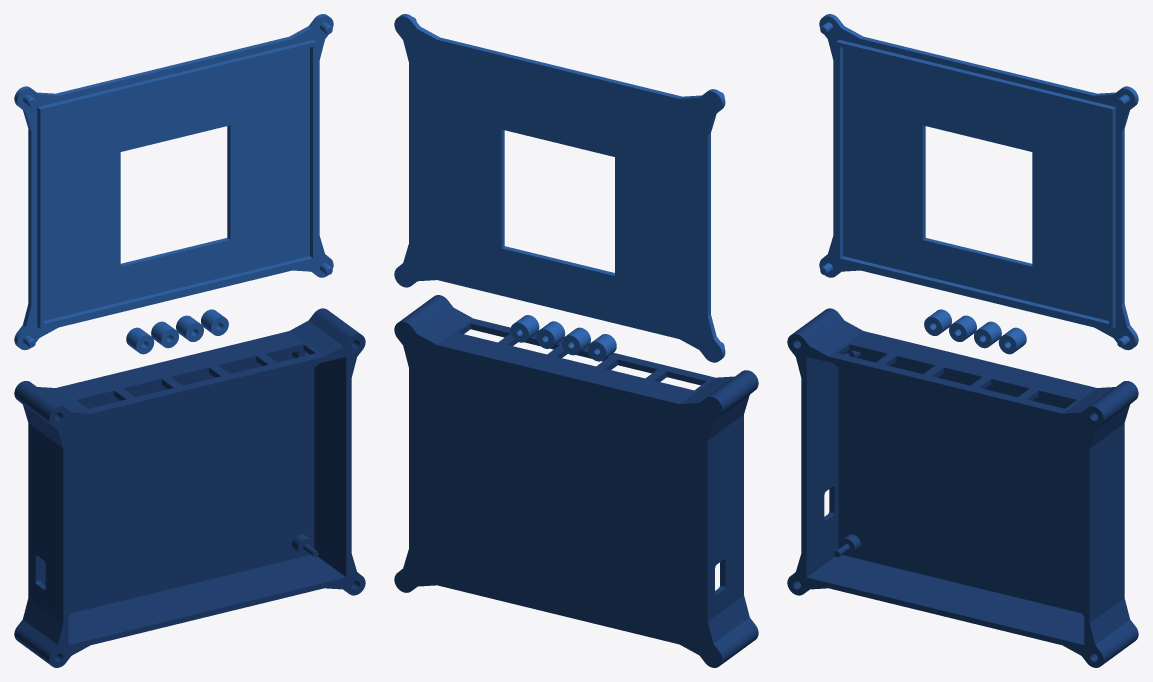
Rendered from .sab_1060_print_set.step.glb.
3 renders of one model, left to right at view 1: azimuth 30°, elevation 25°; view 2: azimuth 150°, elevation 25°; view 3: azimuth 330°, elevation 25°, orthographic. The views are drawn at different scales.
Parts seen in each view (by area): view 1: o1.1, o1.2, o1.3, o1.4, o1.6, o1.5; view 2: o1.1, o1.2, o1.6, o1.4, o1.3, o1.5; view 3: o1.1, o1.2, o1.6, o1.3, o1.5, o1.4.
Boxes of the visible parts, <box> form: o1.1: <box>14,308,365,667</box>; o1.2: <box>14,14,333,350</box>; o1.3: <box>126,327,154,354</box>; o1.4: <box>151,321,178,348</box>; o1.6: <box>201,309,228,335</box>; o1.5: <box>176,315,203,341</box>; o1.1: <box>394,295,758,667</box>; o1.2: <box>394,14,725,362</box>; o1.6: <box>510,315,539,342</box>; o1.4: <box>562,327,590,355</box>; o1.3: <box>587,334,616,361</box>; o1.5: <box>536,321,565,348</box>; o1.1: <box>787,308,1138,667</box>; o1.2: <box>819,14,1138,350</box>; o1.6: <box>998,327,1026,354</box>; o1.3: <box>924,309,951,335</box>; o1.5: <box>974,321,1001,348</box>; o1.4: <box>949,315,976,341</box>.
Size of the model in its own units: 0.1804 by 0.3028 by 0.0346.
